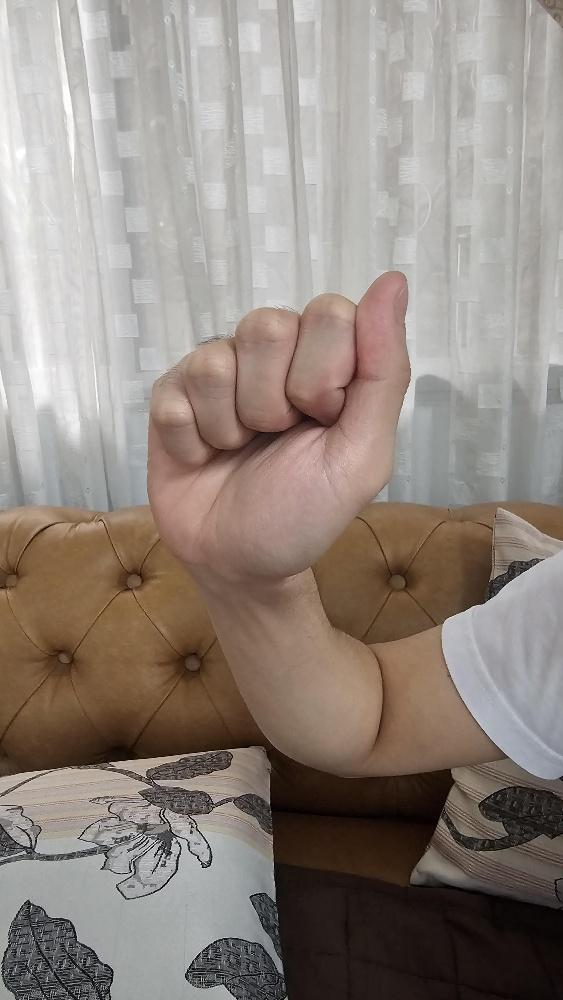a: (144, 266, 414, 581)
